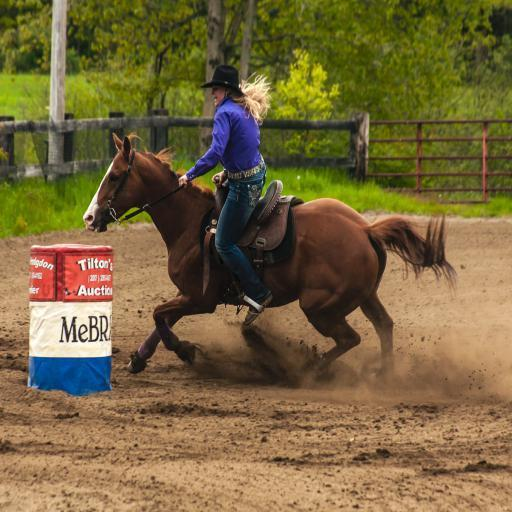horse: (80, 130, 461, 386)
